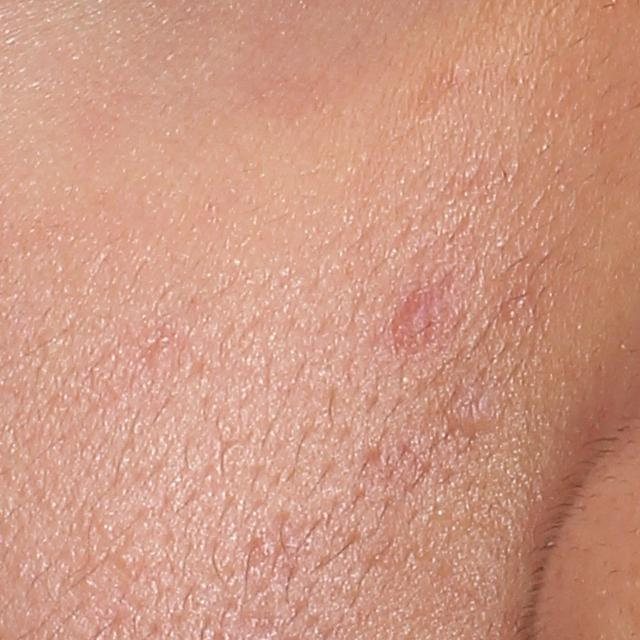comedo: (433, 389, 499, 439)
